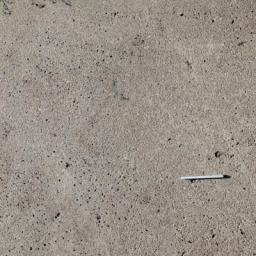FOD: (178, 169, 229, 189)
